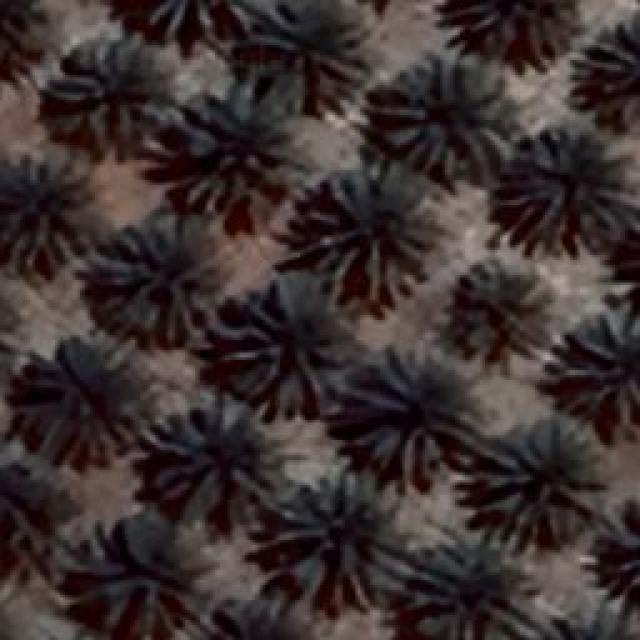PalmTree: (117, 43, 612, 556), (56, 114, 256, 618), (292, 160, 440, 310), (265, 468, 413, 610), (15, 330, 160, 468), (335, 342, 480, 480), (494, 120, 638, 255), (88, 210, 222, 348), (372, 50, 512, 180), (170, 88, 300, 222), (472, 415, 606, 543), (50, 30, 180, 160), (140, 392, 280, 510), (80, 510, 212, 632), (242, 0, 370, 118), (410, 530, 532, 638), (450, 252, 558, 370), (0, 150, 95, 272), (552, 308, 638, 428), (236, 295, 332, 400), (0, 476, 78, 586), (570, 14, 638, 128), (455, 0, 562, 52), (0, 0, 50, 89), (517, 605, 639, 640), (616, 202, 640, 326), (0, 272, 23, 392), (147, 0, 227, 32), (621, 203, 640, 331)
